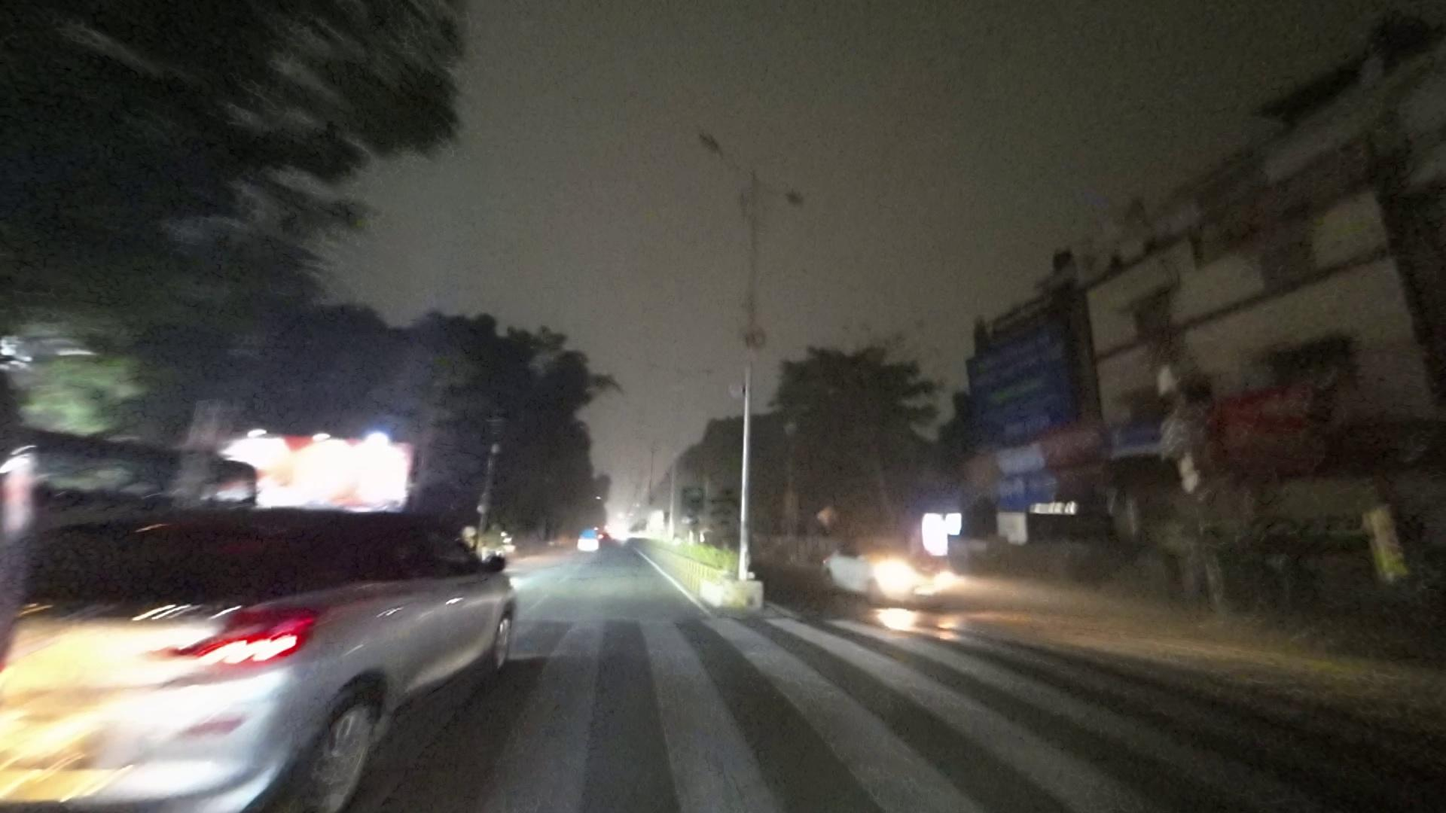streetlight: (696, 126, 746, 177), (764, 177, 806, 212)
